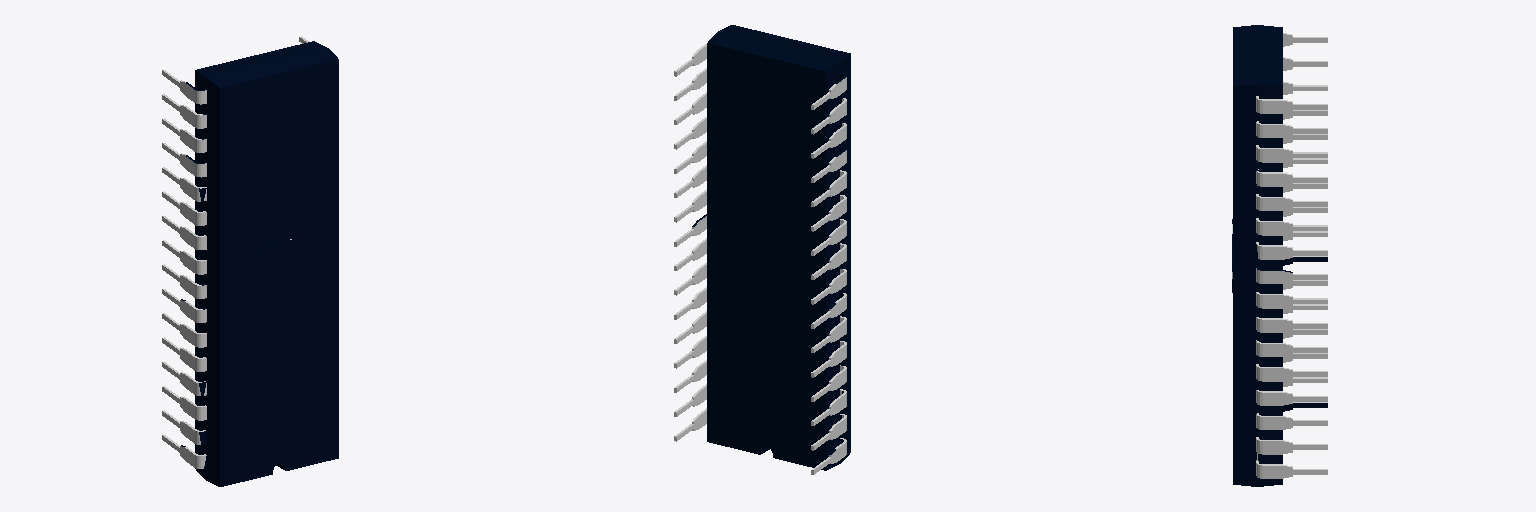
Rendered from flat.obj.
The picture shows the model from 3 angles: view 1: azimuth 30°, elevation 25°; view 2: azimuth 150°, elevation 25°; view 3: azimuth 270°, elevation 25°; orthographic projection.
Visible parts, largest first — view 1: Object.1; view 2: Object.1; view 3: Object.1.
Boxes of the visible parts, x1,y1,x2,y2 form: Object.1: [162, 36, 338, 486]; Object.1: [674, 25, 850, 474]; Object.1: [1232, 25, 1327, 486].
Size of the model in its own units: 15.24 by 42.04 by 9.09.